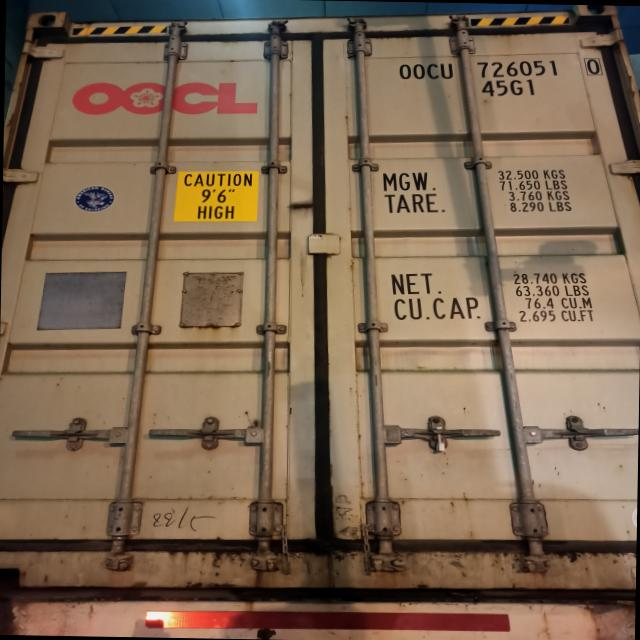seal: (431, 424, 451, 452)
